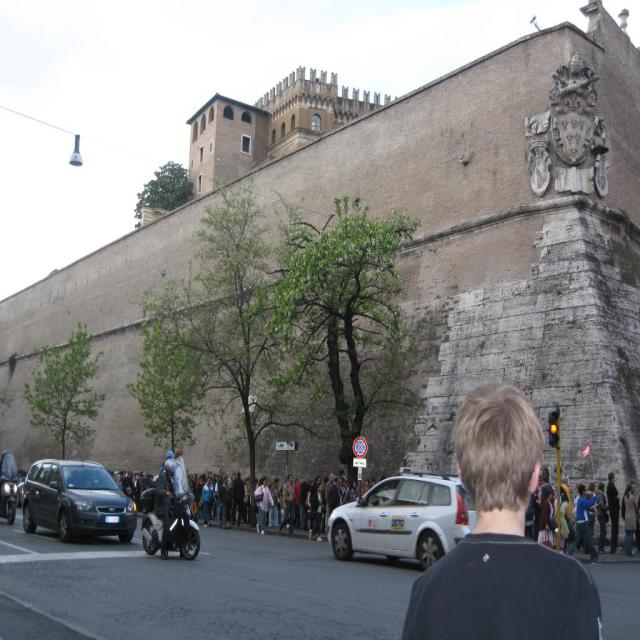car: (16, 459, 133, 550)
